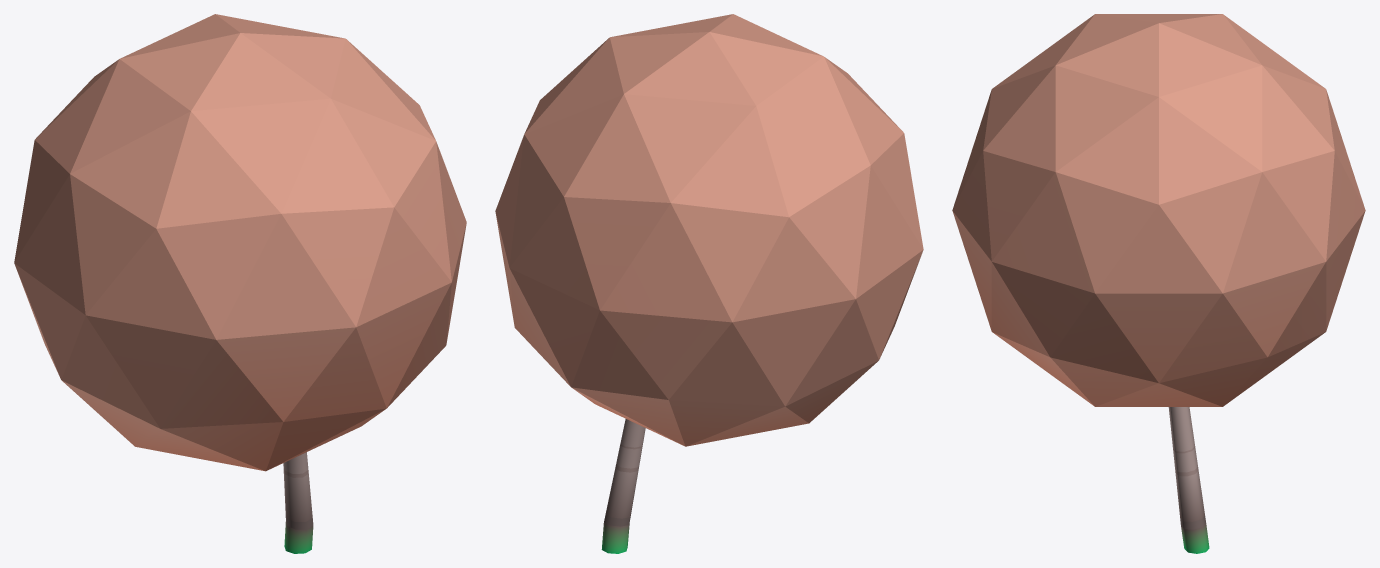
Rendered from mdl_env_1_forest_tree_h_v01.fbx.
The picture shows the model from 3 angles, left to right: view 1: azimuth 30°, elevation 25°; view 2: azimuth 150°, elevation 25°; view 3: azimuth 270°, elevation 25°; orthographic projection. The views are drawn at different scales.
Parts seen in each view (by area): view 1: mdl_env_1_forest_tree_h_v01; view 2: mdl_env_1_forest_tree_h_v01; view 3: mdl_env_1_forest_tree_h_v01.
Part boxes in pixels (x1=…): mdl_env_1_forest_tree_h_v01: x1=14, y1=14, x2=466, y2=553; mdl_env_1_forest_tree_h_v01: x1=495, y1=14, x2=923, y2=553; mdl_env_1_forest_tree_h_v01: x1=952, y1=14, x2=1365, y2=553.
Size of the model in its own units: 16.6 by 22.89 by 17.46.
